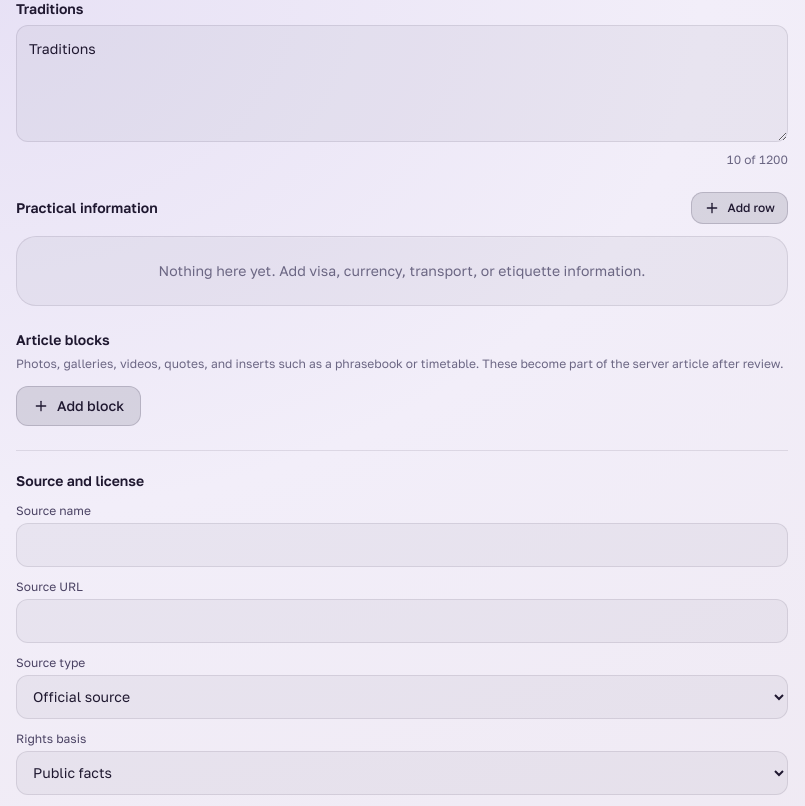
Scenario: WikiEditor localization › renders the English edit form and block tools
(page scrolled)
Check: the text "Source and license" is shown, box 16,472 -> 144,489
Check: the text "Source name" is shown, box 16,503 -> 788,567
Click the button "Add block": (79, 406) 16,386 -> 141,426
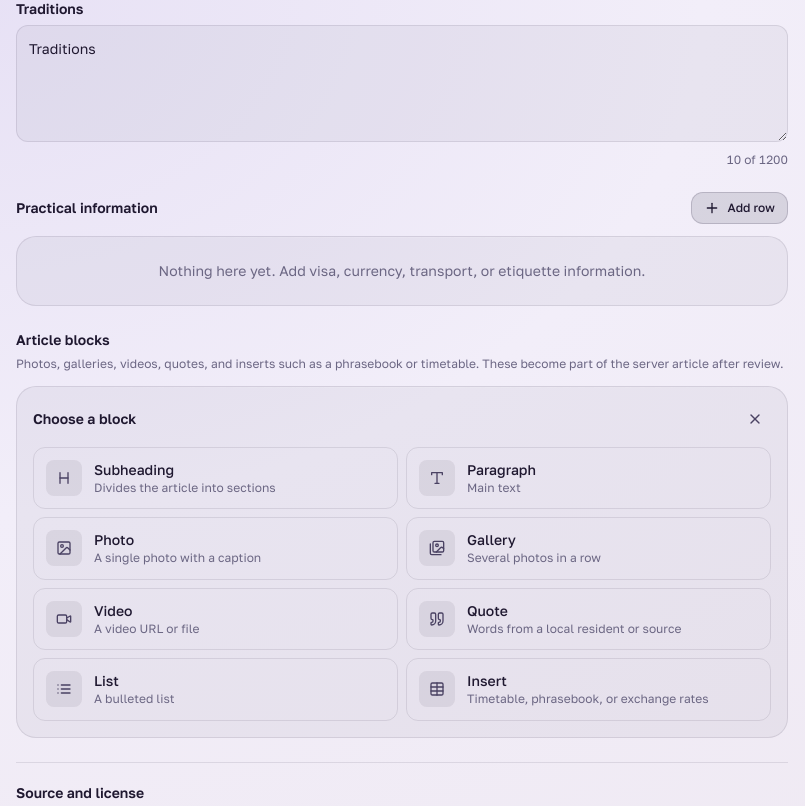
Check: the text "Choose a block" is shown, box 33,409 -> 136,429
Check: the text "Subheading" is shown, box 94,461 -> 174,478
Check: the text "Divides the article into sections" is shown, box 94,480 -> 276,496
Click the button "Photo A single photo with a caption": (216, 549) 33,517 -> 398,580
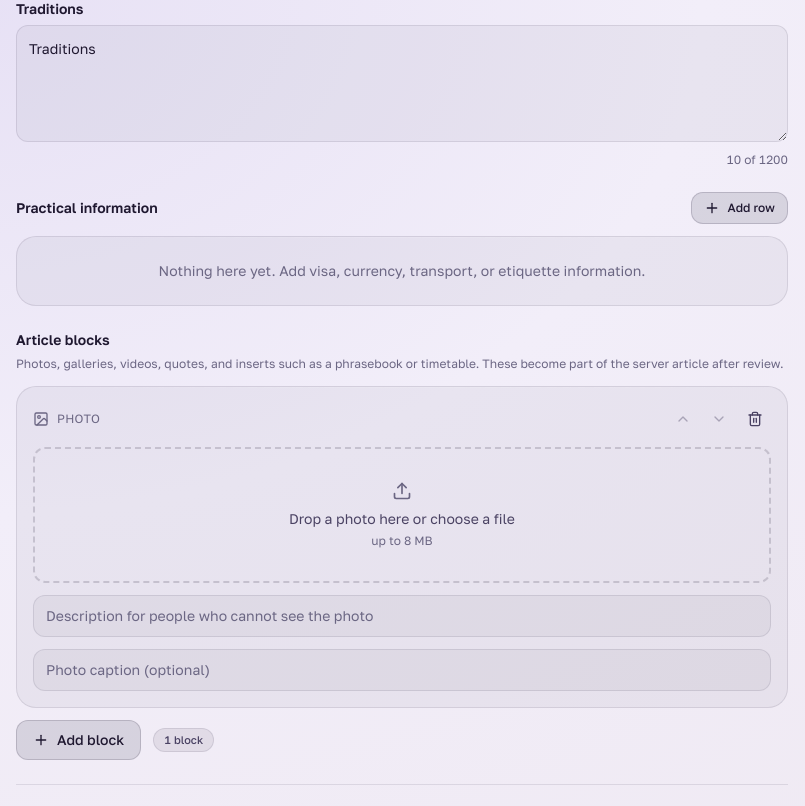
Check: the text "Drop a photo here or choose a file" is shown, box 289,509 -> 515,529
Check: the text "up to 8 MB" is shown, box 371,533 -> 433,549
